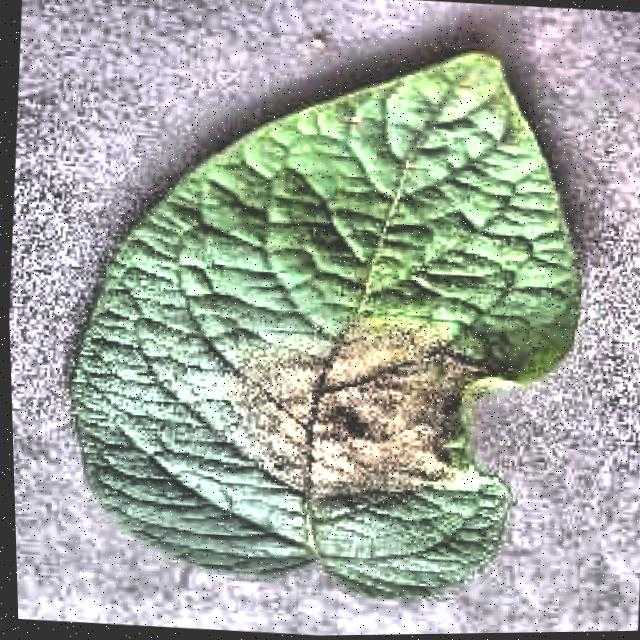Potato_leaf_late_blight: (77, 54, 573, 596)
